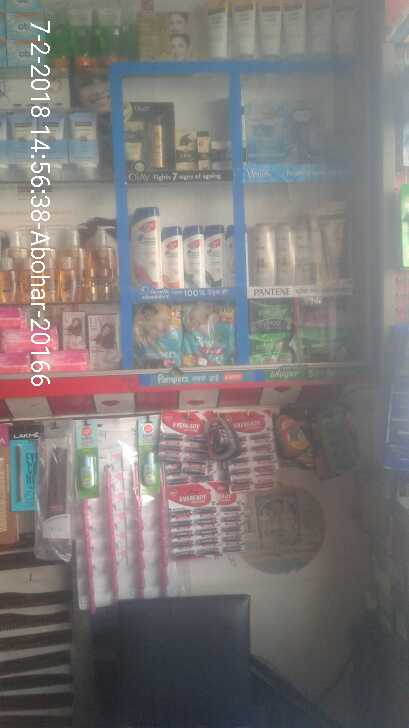venus: (288, 102, 317, 165)
